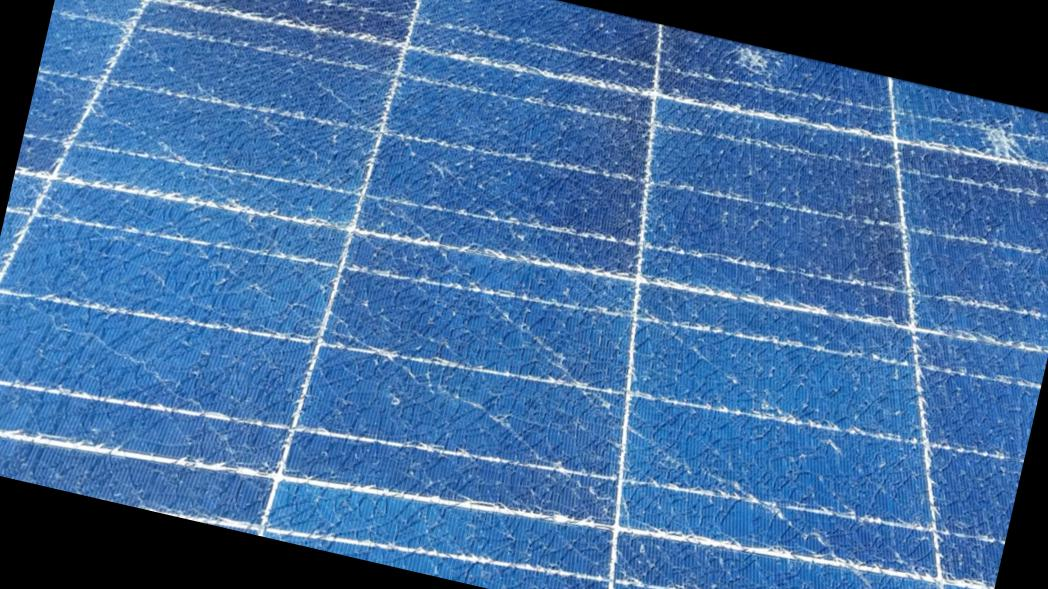Crack: (948, 105, 1047, 187), (712, 39, 799, 102)
